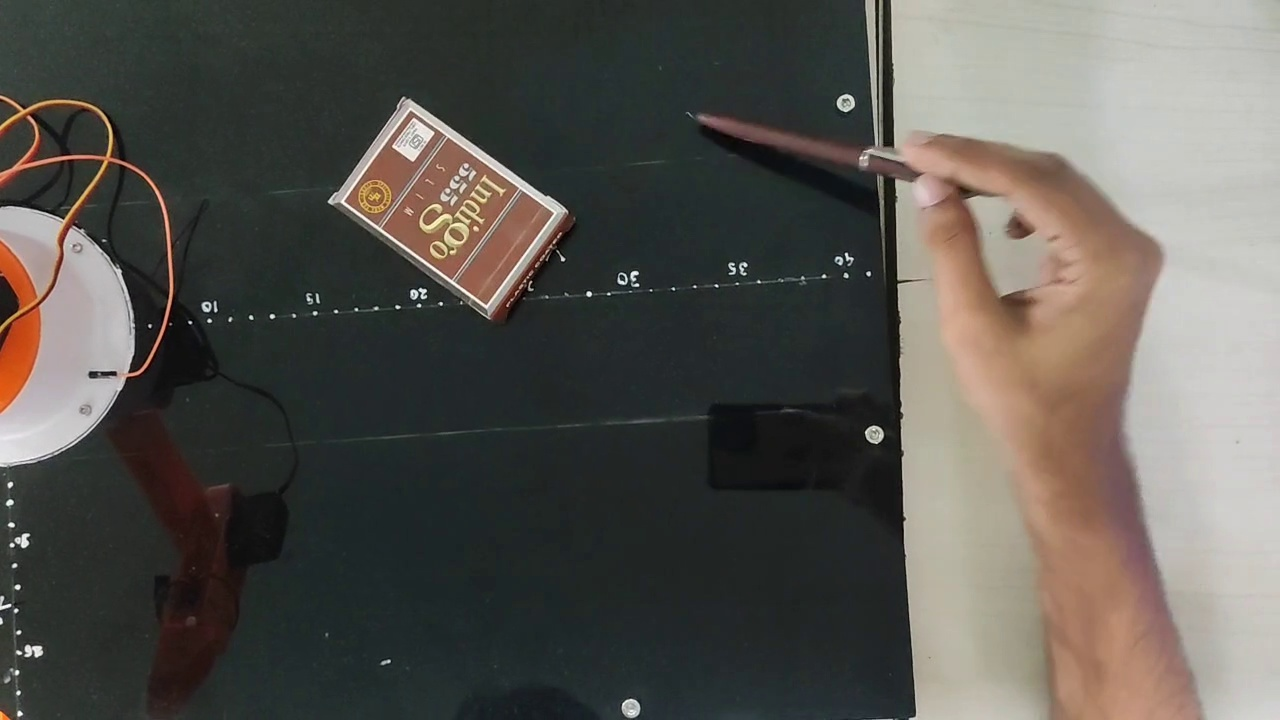BEX: (341, 109, 555, 304)
